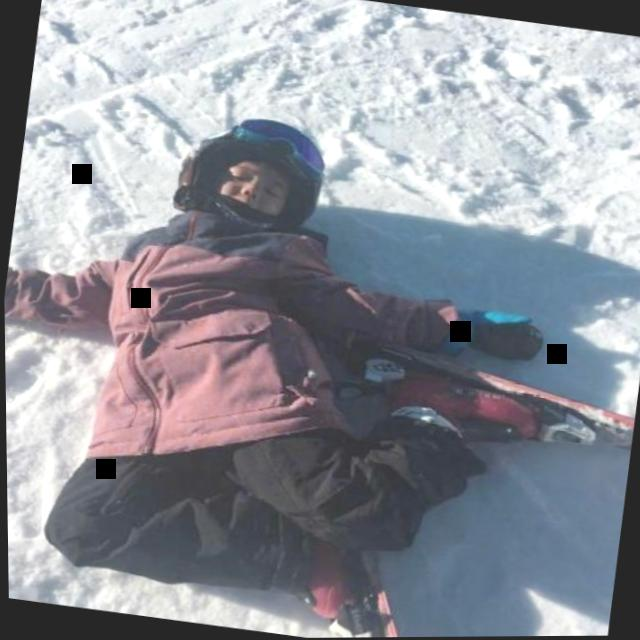Fall-Detected: (1, 74, 584, 640)
